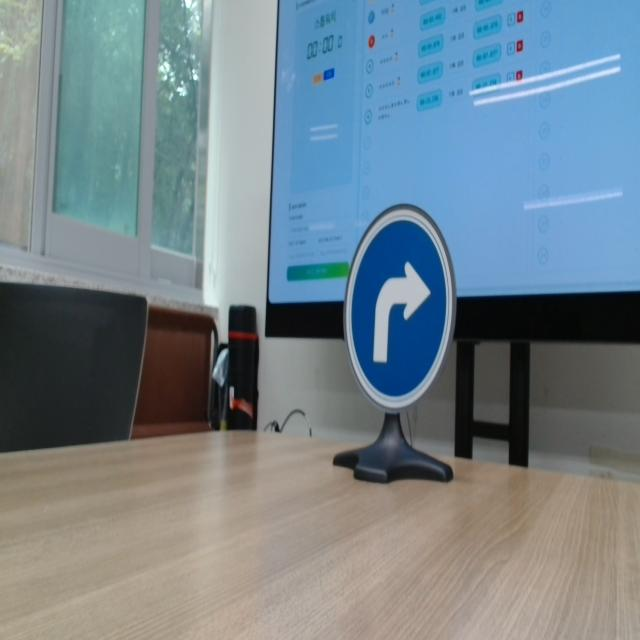right_dierection: (326, 189, 468, 439)
